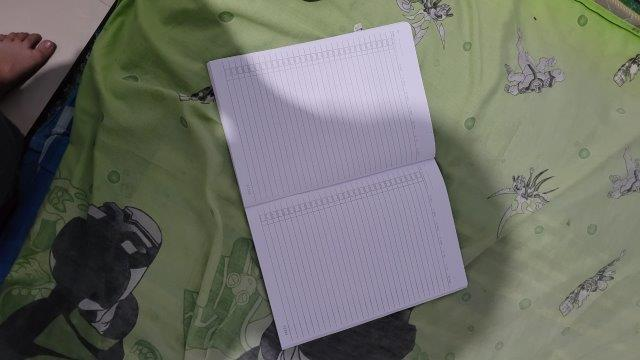kertas: (206, 20, 470, 350)
